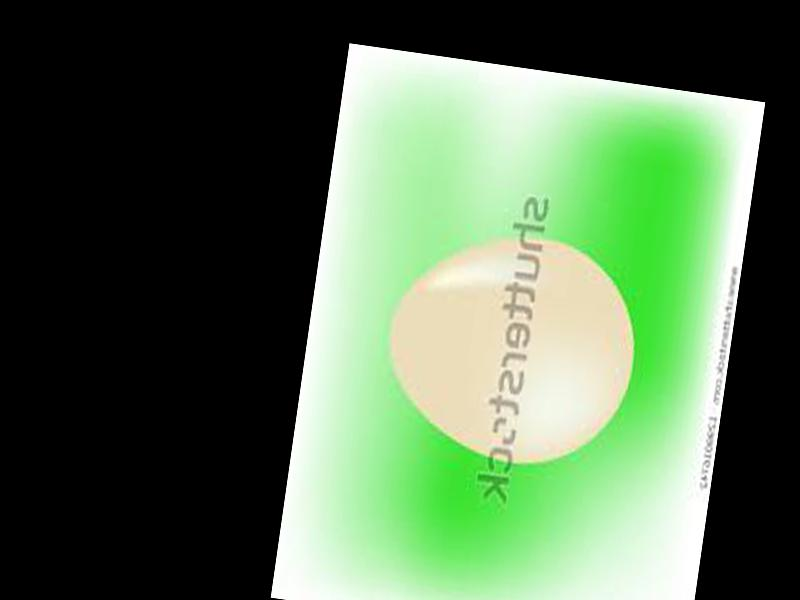Eggs: (374, 220, 647, 478)
